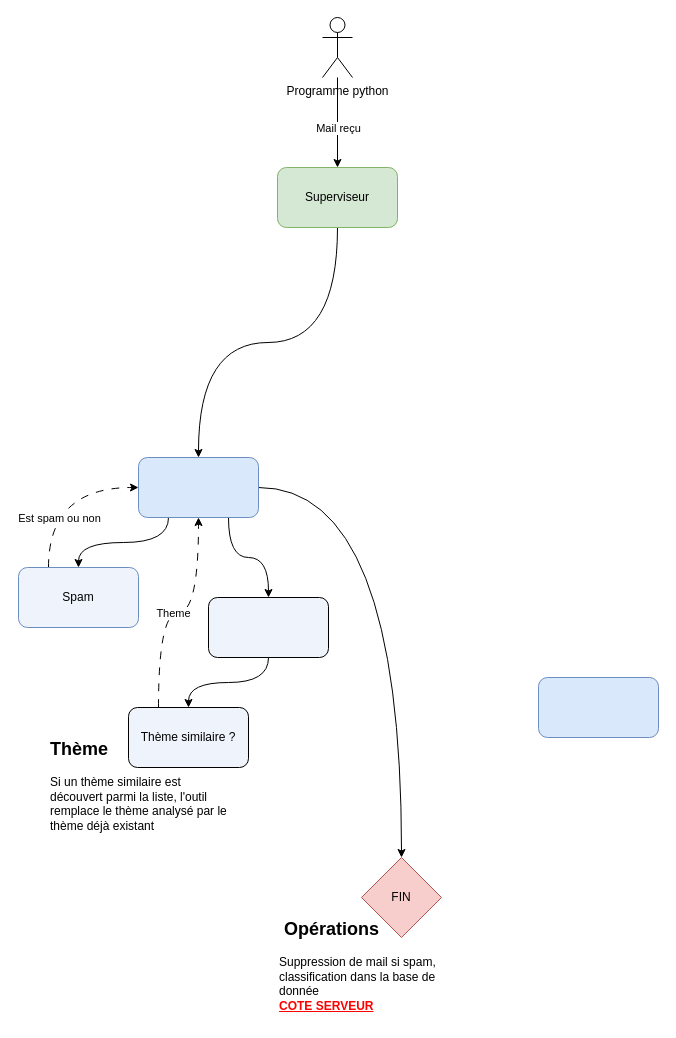
Image size: 676x1038. Some labels were removed from this diagram. The shapes that lost their labels are listed below. From the top down, each one's centre as x and y in pixels, then its label:
pixel 198 487: Analyse de mail
pixel 268 627: Thème
pixel 598 707: Opérations sur les mails
